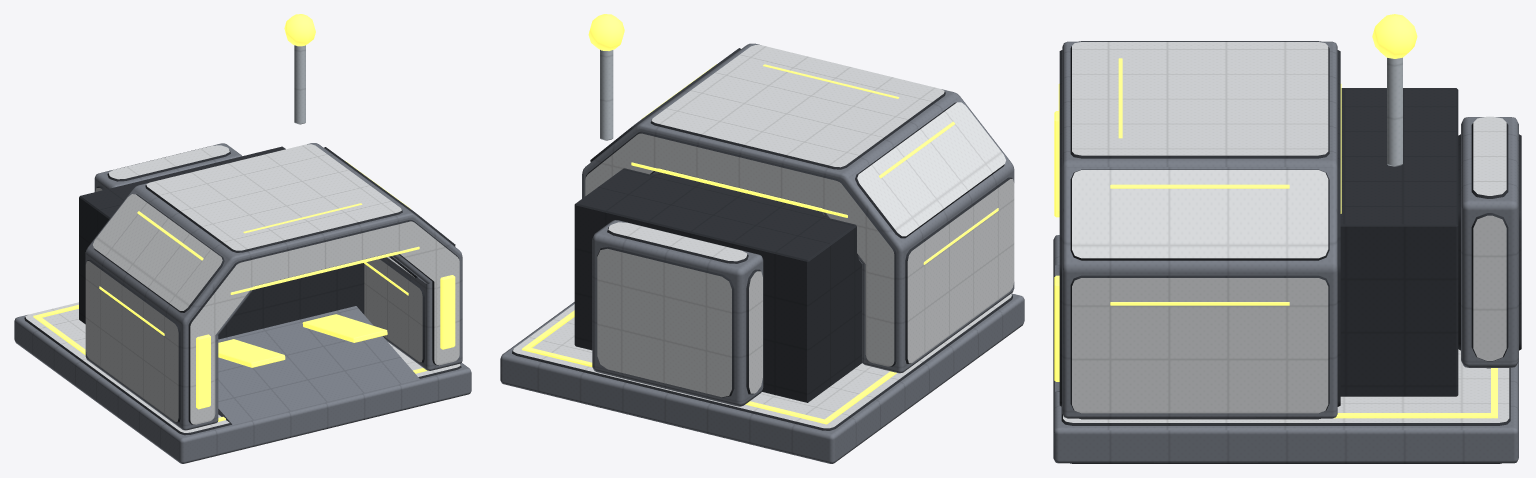
Rendered from R4X_GroundDroneDeployer.glb.
3 renders of one model, left to right at view 1: azimuth 30°, elevation 25°; view 2: azimuth 150°, elevation 25°; view 3: azimuth 270°, elevation 25°, orthographic. The views are drawn at different scales.
Parts seen in each view (by area): view 1: R4X_GroundDroneDeployer_Body; view 2: R4X_GroundDroneDeployer_Body; view 3: R4X_GroundDroneDeployer_Body.
Boxes of the visible parts, bbox=[...] form: R4X_GroundDroneDeployer_Body: bbox=[14, 14, 471, 463]; R4X_GroundDroneDeployer_Body: bbox=[500, 14, 1024, 463]; R4X_GroundDroneDeployer_Body: bbox=[1053, 14, 1521, 463].
Bounding box in the file's own units: 0.514 × 0.51 × 0.517.
Materials: 5 (4 with a texture image).
